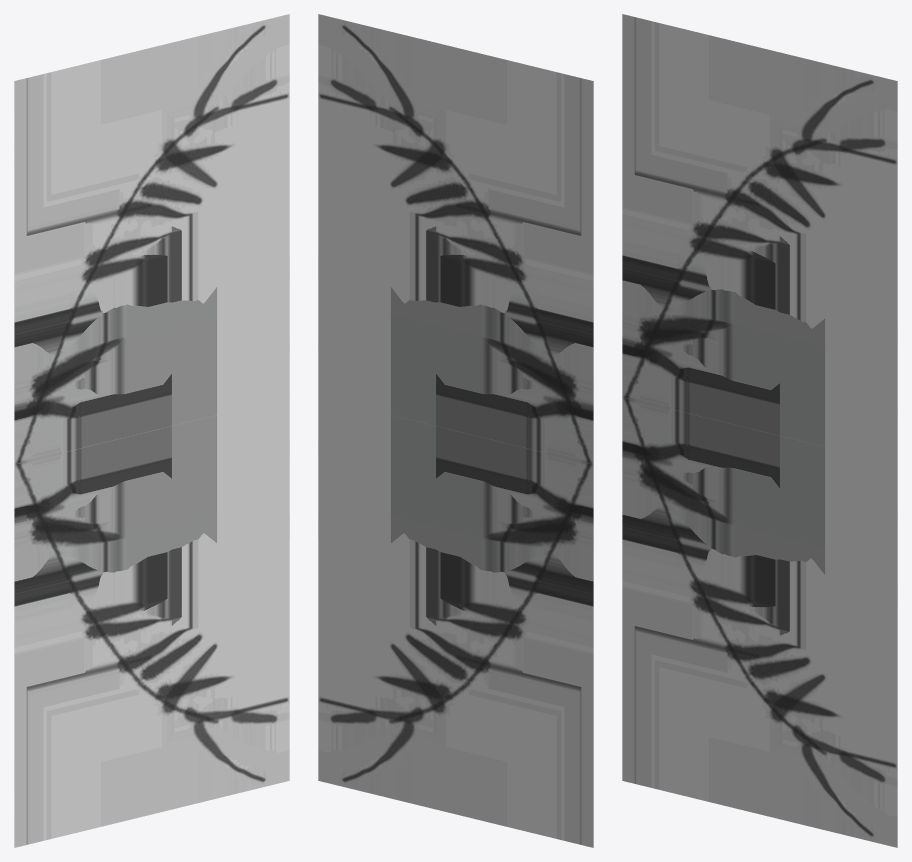
The model's file is PPX_REED5.fbx.
3 renders of one model, left to right at view 1: azimuth 30°, elevation 25°; view 2: azimuth 150°, elevation 25°; view 3: azimuth 330°, elevation 25°, orthographic.
Parts seen in each view (by area): view 1: 图层 5.png, 图层 5.png_2; view 2: 图层 5.png, 图层 5.png_2; view 3: 图层 5.png, 图层 5.png_2.
Boxes of the visible parts, left/top/right/bottom form: 图层 5.png: left=14, top=14, right=289, bottom=464; 图层 5.png_2: left=14, top=397, right=289, bottom=847; 图层 5.png: left=318, top=14, right=593, bottom=464; 图层 5.png_2: left=318, top=397, right=593, bottom=847; 图层 5.png: left=622, top=14, right=897, bottom=464; 图层 5.png_2: left=622, top=397, right=897, bottom=847.
Bounding box in the file's own units: 141 × 0 × 376.
1 material, 1 textured.
